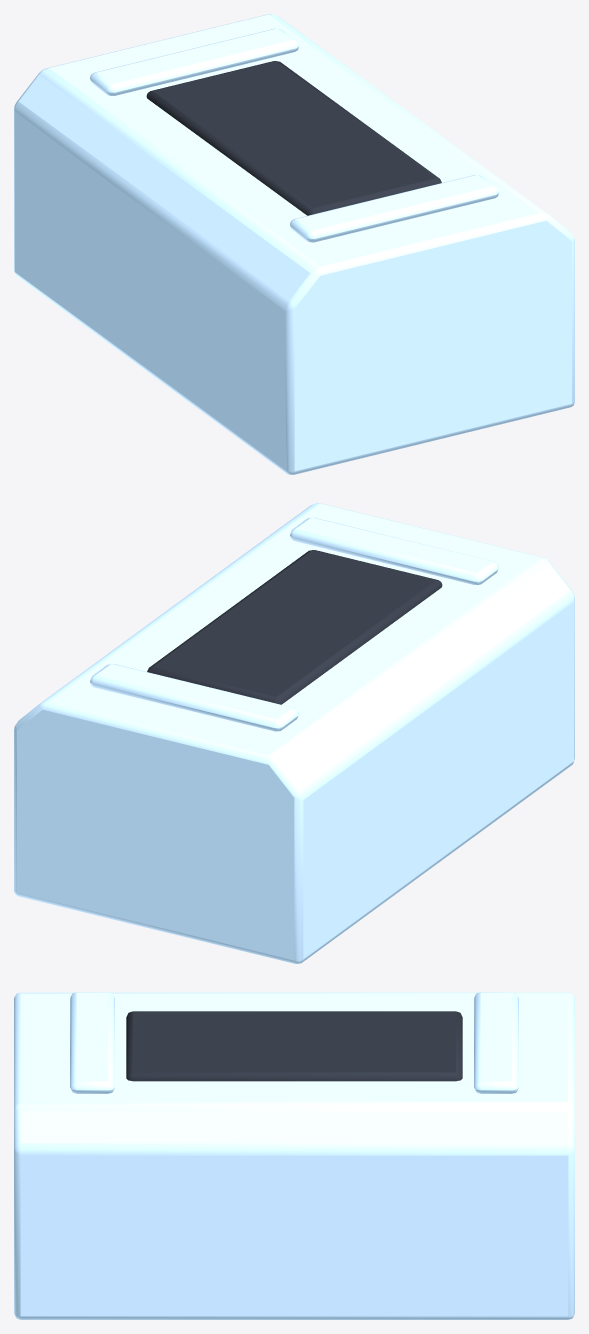
Rendered from ware_eiskern.fbx.
3 views of the same model, one above another, from view 1: azimuth 30°, elevation 25°; view 2: azimuth 150°, elevation 25°; view 3: azimuth 270°, elevation 25° (orthographic).
Visible parts, largest first — view 1: ware_eiskern_Koerper; view 2: ware_eiskern_Koerper; view 3: ware_eiskern_Koerper.
Boxes of the visible parts, left/top/right/bottom form: ware_eiskern_Koerper: left=14, top=14, right=574, bottom=474; ware_eiskern_Koerper: left=14, top=503, right=574, bottom=963; ware_eiskern_Koerper: left=14, top=992, right=574, bottom=1319.
Bounding box in the file's own units: 0.3 × 0.211 × 0.5.
